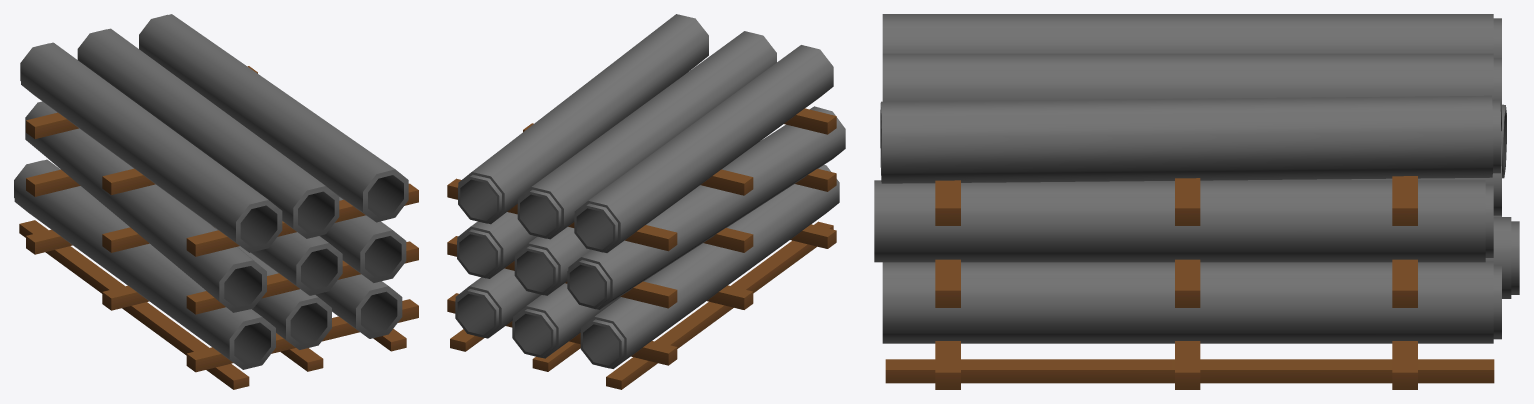
The model's file is PipesBulk.fbx.
The picture shows the model from 3 angles, left to right: view 1: azimuth 30°, elevation 25°; view 2: azimuth 150°, elevation 25°; view 3: azimuth 270°, elevation 25°; orthographic projection. The views are drawn at different scales.
Visible parts, largest first — view 1: PipesBulk; view 2: PipesBulk; view 3: PipesBulk.
Boxes of the visible parts, x1,y1,x2,y2 form: PipesBulk: (14, 14, 418, 389); PipesBulk: (447, 14, 845, 389); PipesBulk: (874, 14, 1519, 389).
Bounding box in the file's own units: 257 × 201 × 453.
